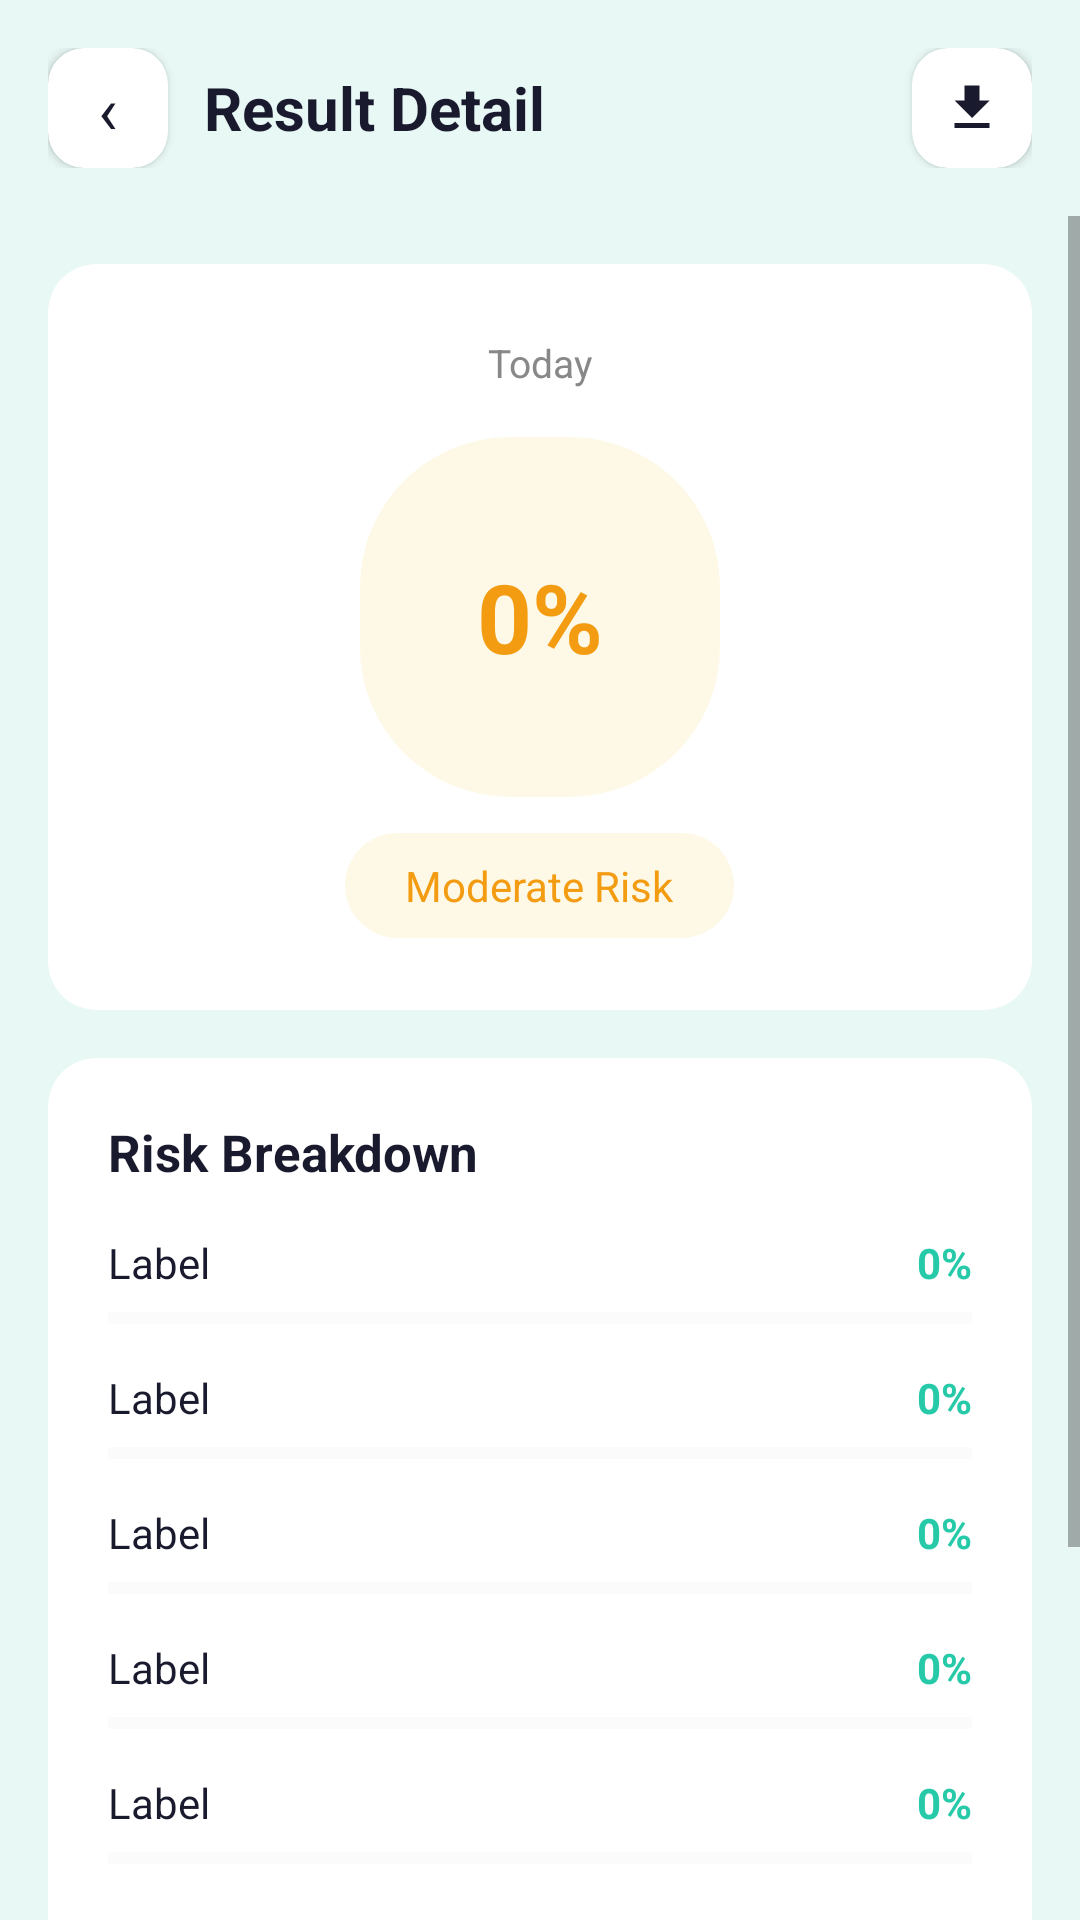

Screen size 1080 × 1920. Icon name, then its box in pixels as (left=x1, top=y1, right=x2, bottom=y2):
download: (left=954, top=85, right=990, bottom=128)
